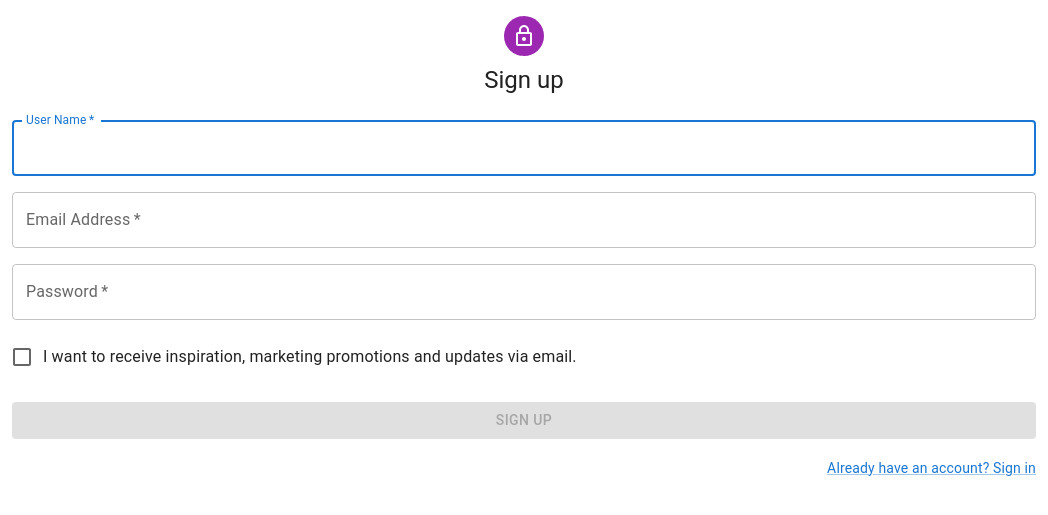
SignUp Component › Validation › should display validation errors for invalid email
The width and height of the screenshot is (1048, 515).
Type "invalidEmail@" into the field labelled "Email Address *". click: (524, 220)
box: [12,192,1036,248]
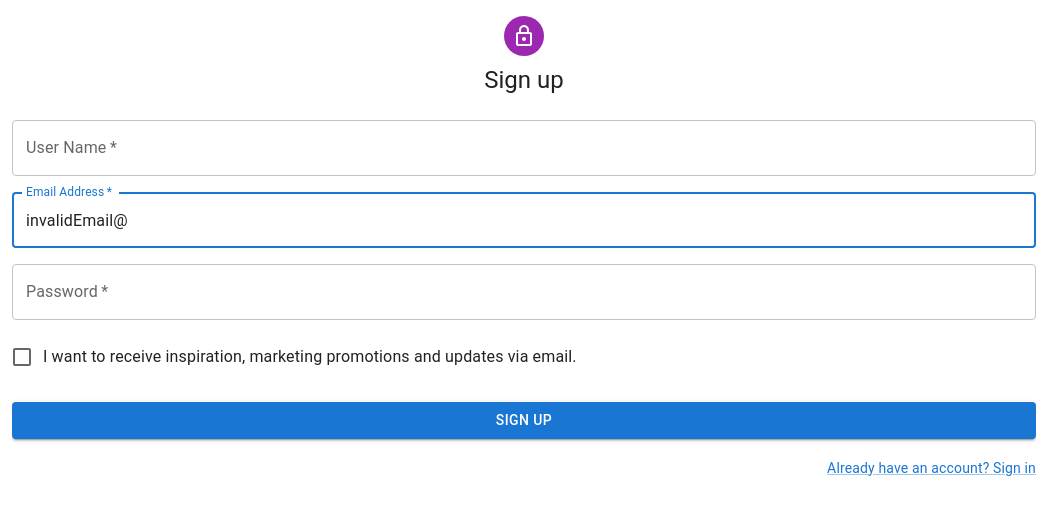
Press Tab
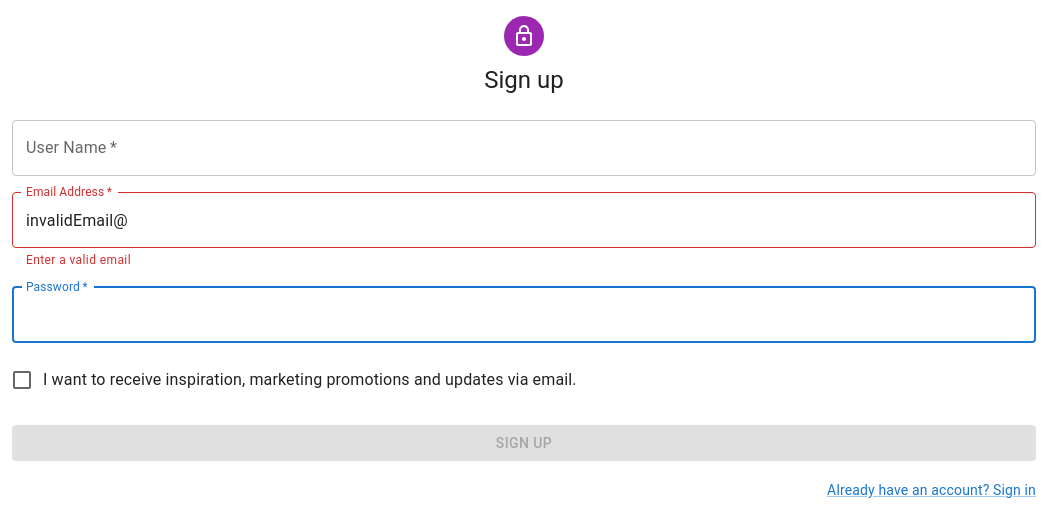
Result: the text "Enter a valid email" is shown at [26,253,131,267]
